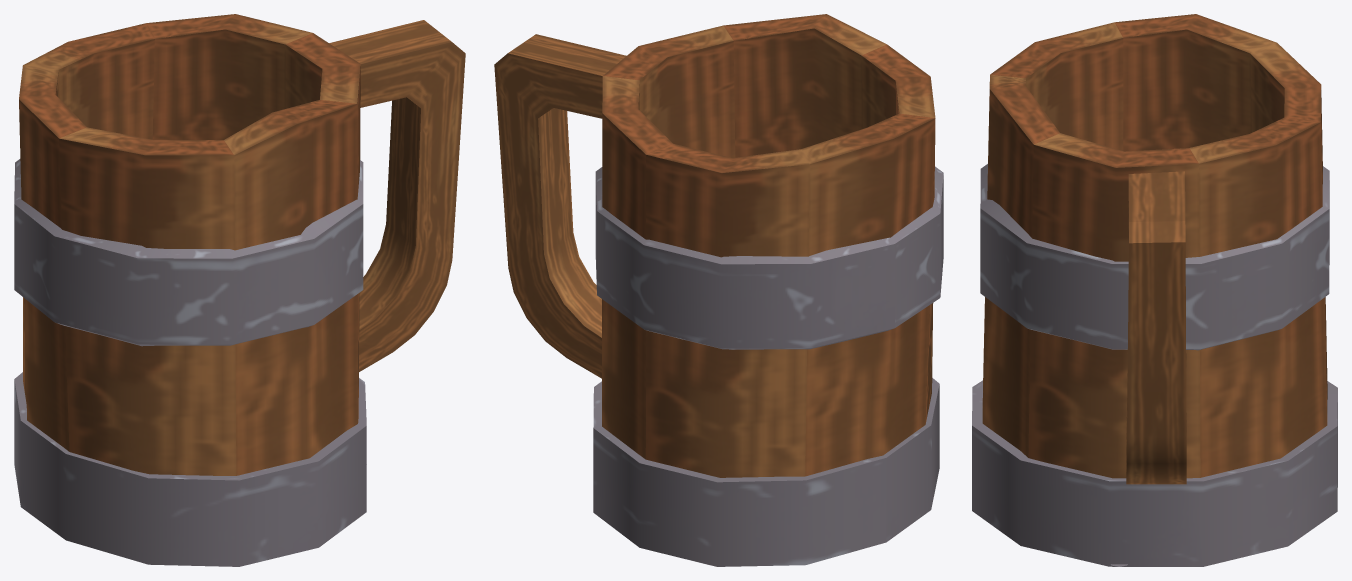
File: Mug.fbx
The picture shows the model from 3 angles, left to right: view 1: azimuth 30°, elevation 25°; view 2: azimuth 150°, elevation 25°; view 3: azimuth 270°, elevation 25°; orthographic projection. The views are drawn at different scales.
Parts seen in each view (by area): view 1: Mug; view 2: Mug; view 3: Mug.
Part boxes in pixels (x1,y1,x2,y2): Mug: (14,14,465,566); Mug: (494,14,943,566); Mug: (972,14,1337,566).
Size of the model in its own units: 19.21 by 18.39 by 14.68.
